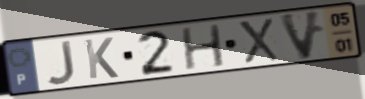2: (135, 29, 179, 78)
H: (179, 22, 228, 73)
J: (44, 38, 78, 87)
K: (81, 36, 121, 81)
V: (276, 8, 324, 62)
X: (235, 17, 282, 66)
